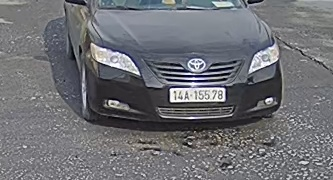vehicle plate: (168, 83, 226, 103)
